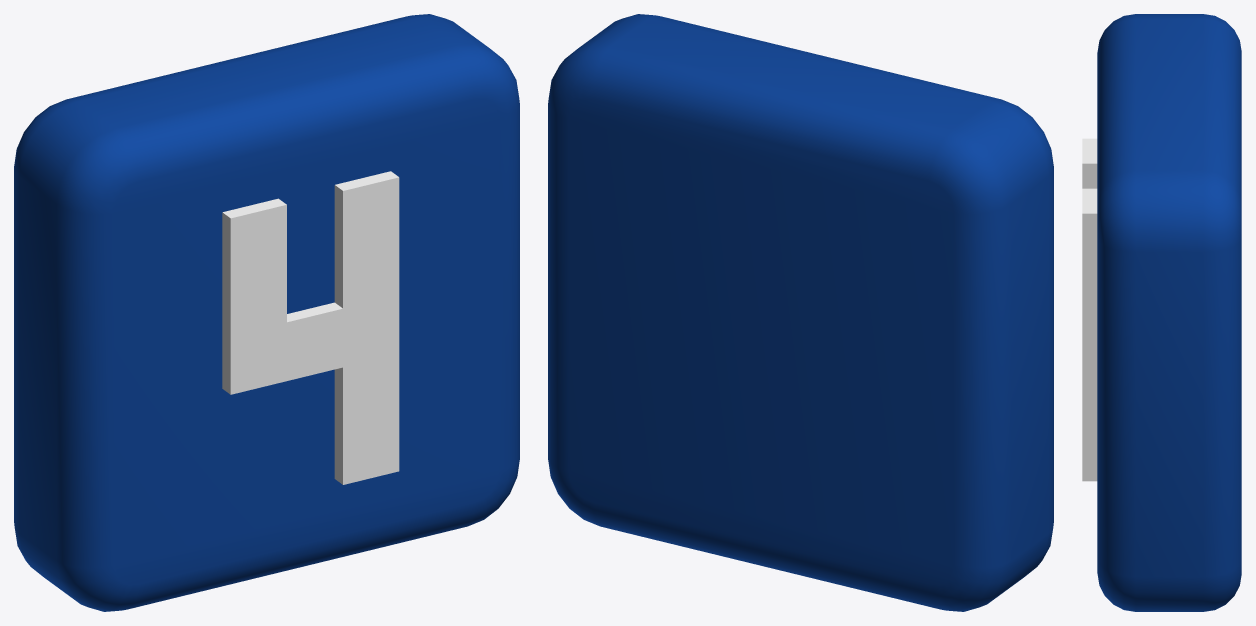
Rendered from keycap_4.glb.
3 views of the same model, side by side, from view 1: azimuth 30°, elevation 25°; view 2: azimuth 150°, elevation 25°; view 3: azimuth 270°, elevation 25° (orthographic). The views are drawn at different scales.
Parts seen in each view (by area): view 1: Cube.6582; view 2: Cube.6582; view 3: Cube.6582.
Part boxes in pixels (left/top/right/bottom): Cube.6582: left=14, top=14, right=519, bottom=611; Cube.6582: left=548, top=14, right=1053, bottom=611; Cube.6582: left=1082, top=14, right=1241, bottom=611.
Size of the model in its own units: 2.2 by 2.2 by 0.73.
Materials: 1 (1 with a texture image).
